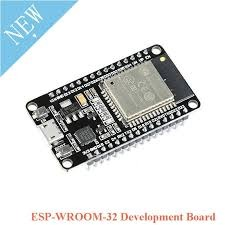ESP32-WROOM: (22, 48, 202, 174)
